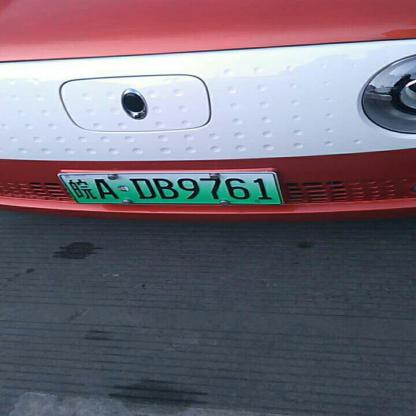lp: (59, 171, 281, 204)
